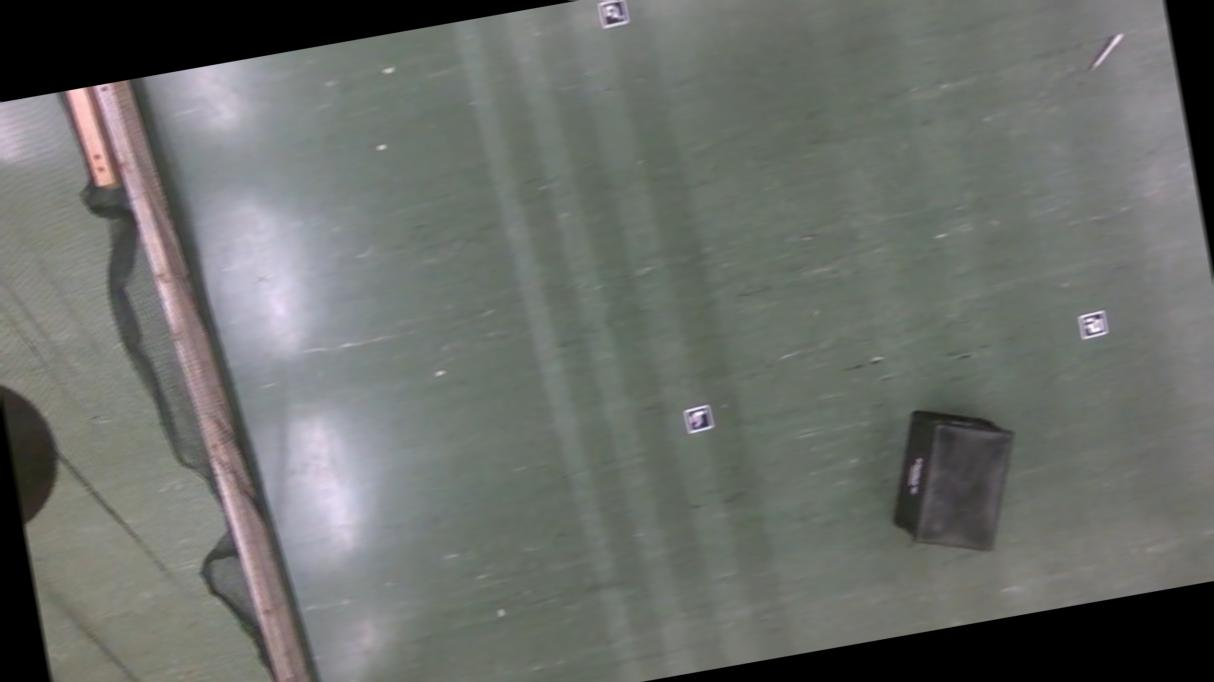probes: (1084, 33, 1128, 71)
rako: (874, 394, 1033, 566)
